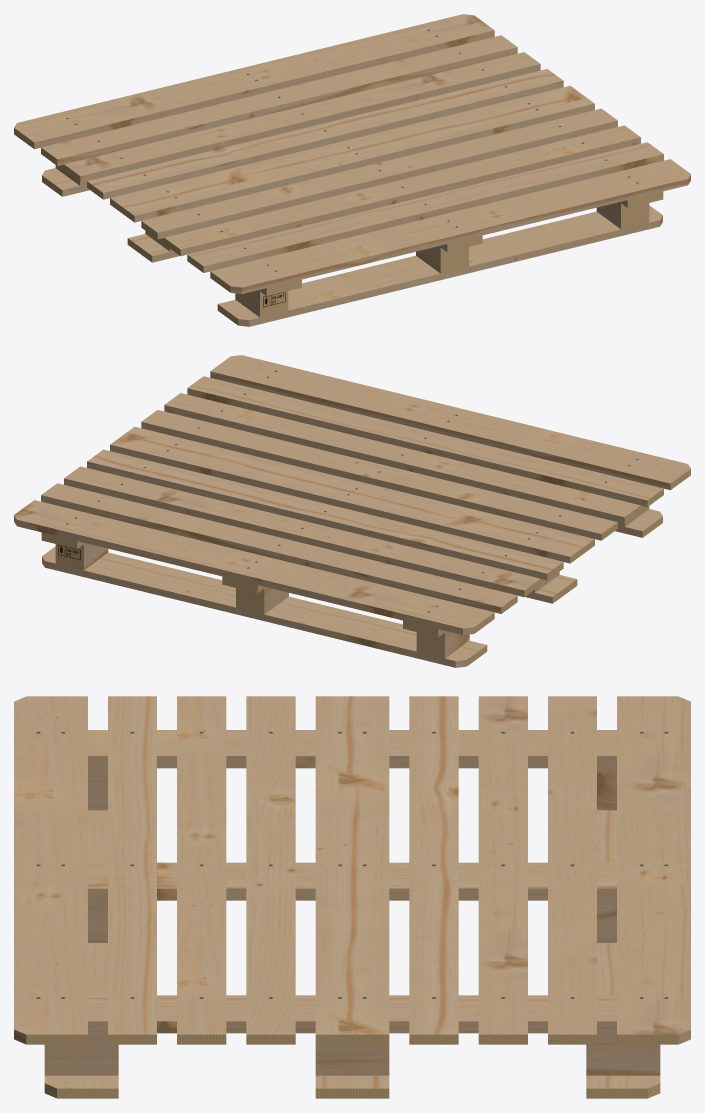
File: cp4-type-pallet-1100x1300.glb
3 renders of one model, top to bottom at view 1: azimuth 30°, elevation 25°; view 2: azimuth 150°, elevation 25°; view 3: azimuth 270°, elevation 25°, orthographic. The views are drawn at different scales.
Parts seen in each view (by area): view 1: cp4-type-pallet-1100x1300; view 2: cp4-type-pallet-1100x1300; view 3: cp4-type-pallet-1100x1300.
Boxes of the visible parts, <box> form: cp4-type-pallet-1100x1300: <box>14,14,690,326</box>; cp4-type-pallet-1100x1300: <box>14,355,690,667</box>; cp4-type-pallet-1100x1300: <box>14,696,690,1098</box>.
Size of the model in its own units: 1.3 by 0.139 by 1.1.
4 materials, 3 textured.
